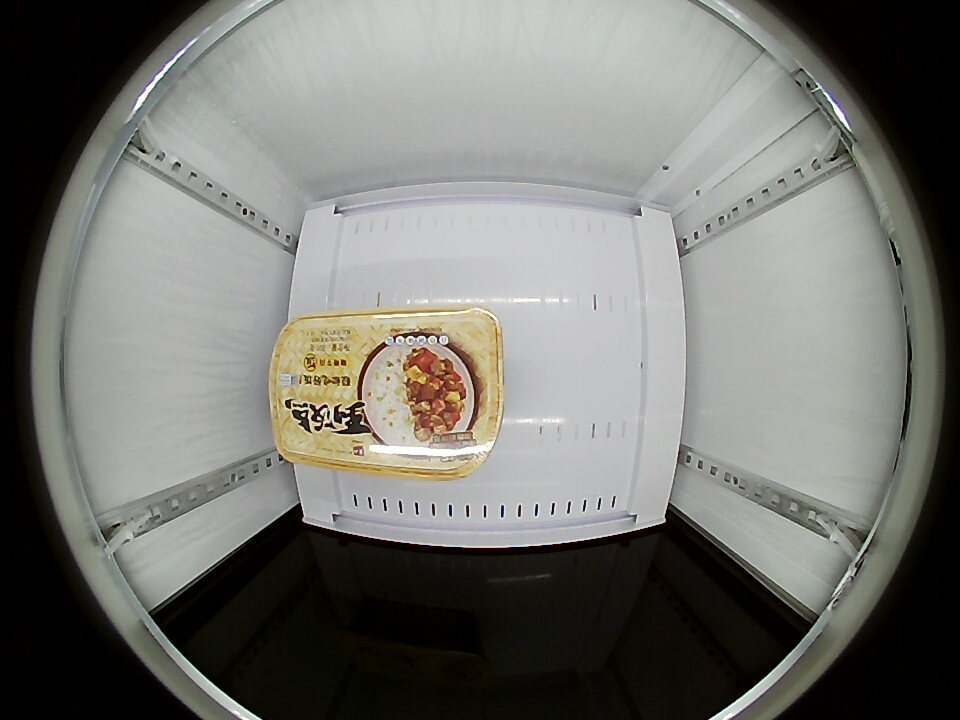daofandian2: (268, 308, 506, 480)
